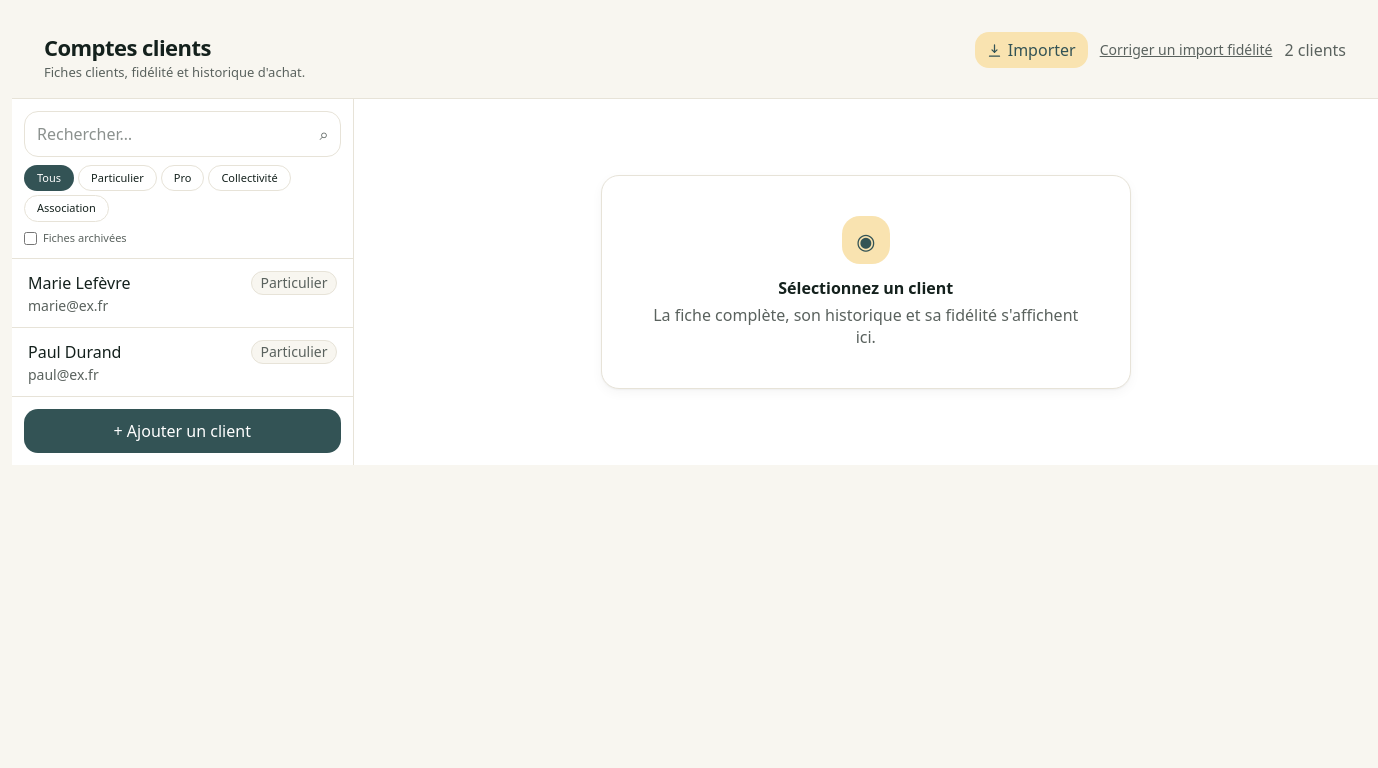
Test: Fiche client — onglets › ouvre sur le Dashboard au clic sur un client
Click the text "Marie Lefèvre" at (79, 283), box [28,271,130,295]
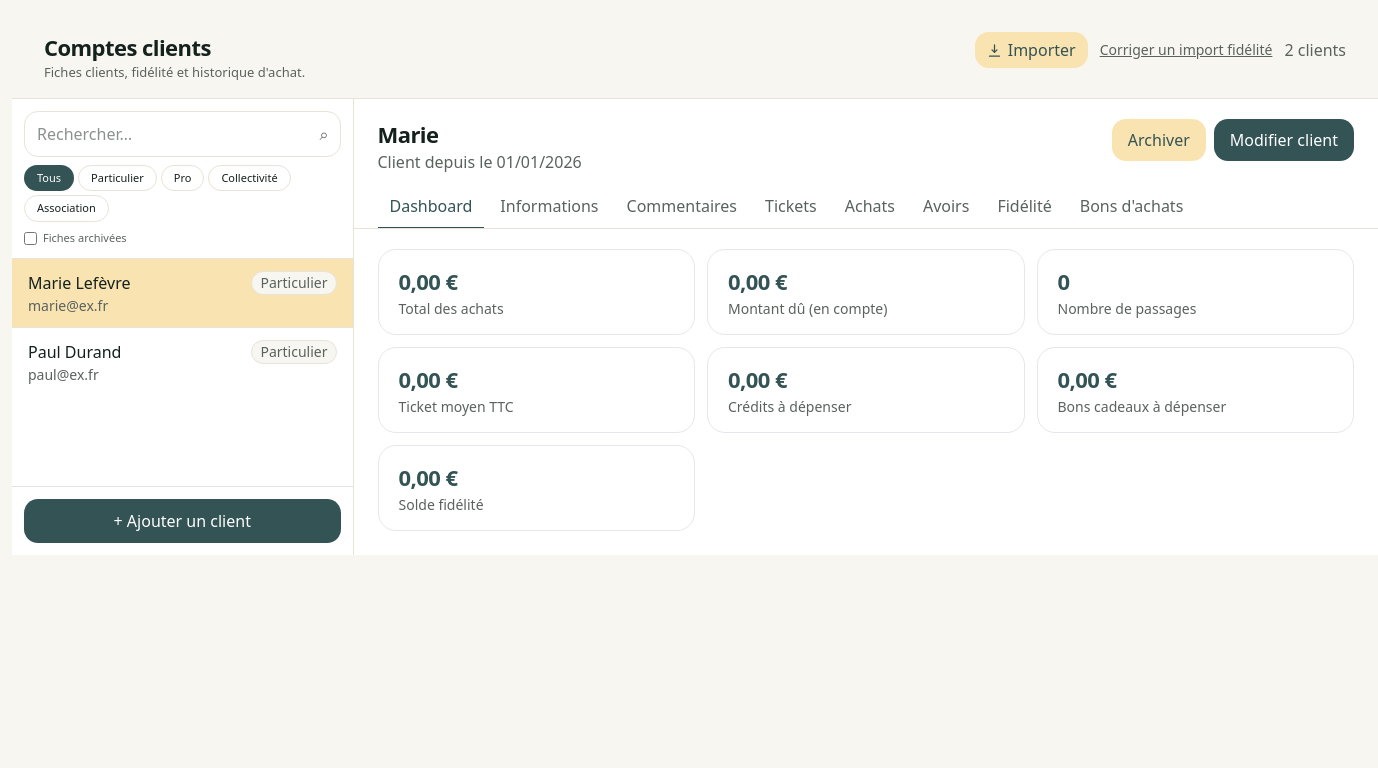
Now the tab "Dashboard" is shown, box [378,185,484,228]
Now the text "Total des achats" is shown, box [398,299,504,318]
